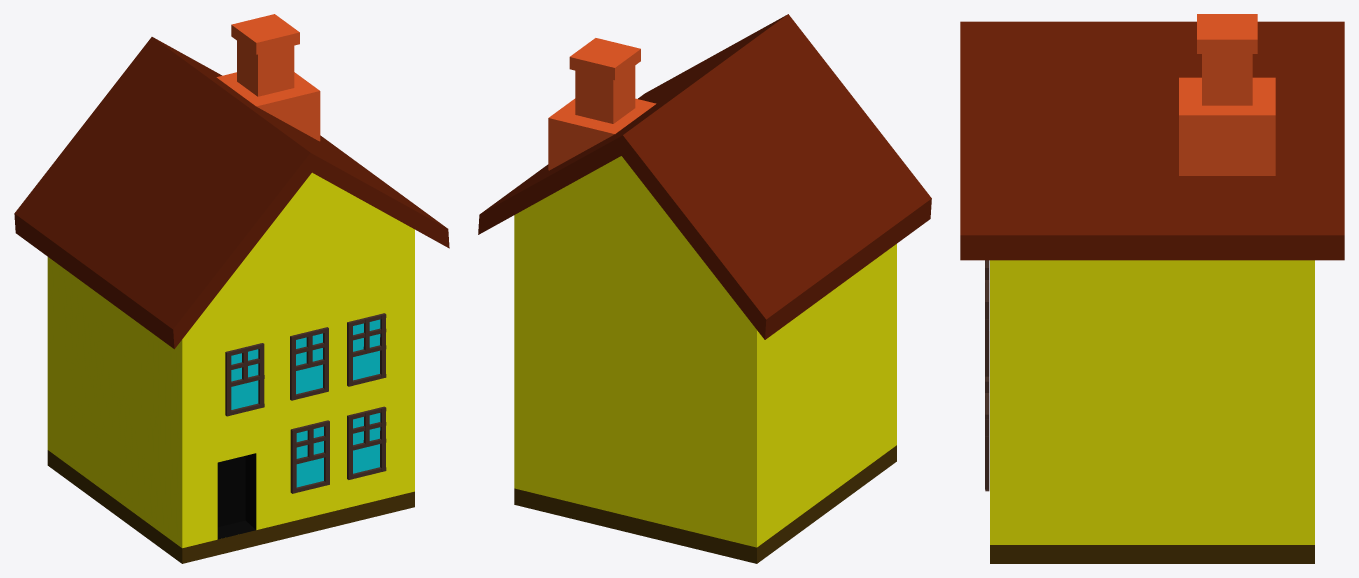
The model's file is EspacoPorta.fbx.
3 views of the same model, side by side, from view 1: azimuth 30°, elevation 25°; view 2: azimuth 150°, elevation 25°; view 3: azimuth 270°, elevation 25° (orthographic). The views are drawn at different scales.
Visible parts, largest first — view 1: CasaC/EspacoPorta; view 2: CasaC/EspacoPorta; view 3: CasaC/EspacoPorta.
Part boxes in pixels (x1=…): CasaC/EspacoPorta: x1=14, y1=14, x2=449, y2=563; CasaC/EspacoPorta: x1=478, y1=14, x2=931, y2=563; CasaC/EspacoPorta: x1=960, y1=14, x2=1344, y2=563.
Size of the model in its own units: 982 by 1423 by 977.
